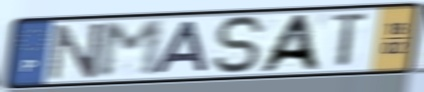A: (254, 13, 324, 74), (151, 19, 211, 76)
M: (96, 19, 166, 81)
N: (47, 21, 107, 83)
S: (212, 14, 270, 76)
T: (329, 10, 372, 71)
